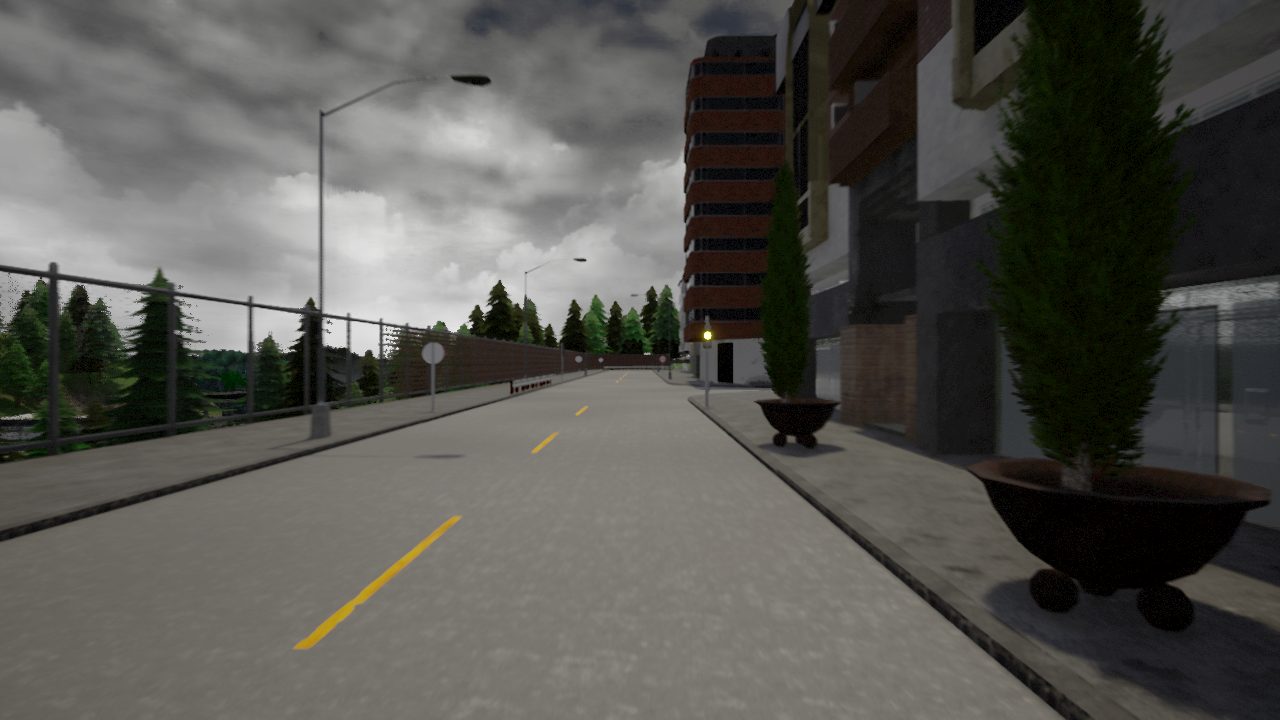yellow: (703, 320, 712, 348)
